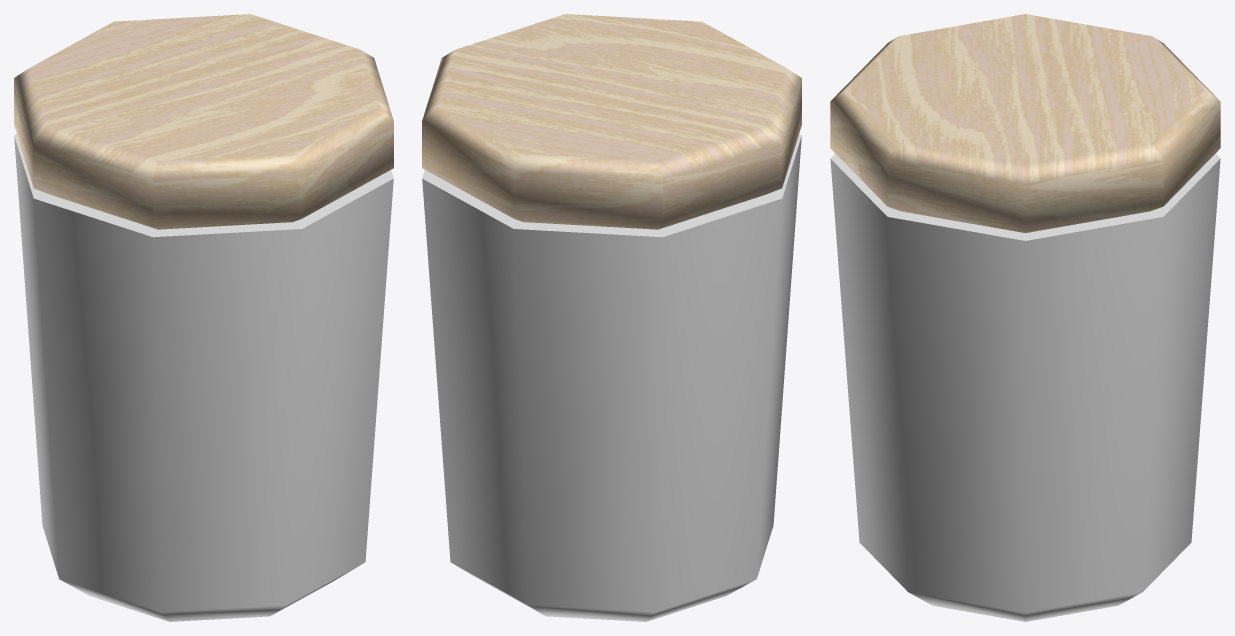
File: prop_034.fbx
3 views of the same model, side by side, from view 1: azimuth 30°, elevation 25°; view 2: azimuth 150°, elevation 25°; view 3: azimuth 270°, elevation 25° (orthographic).
Visible parts, largest first — view 1: prop_034; view 2: prop_034; view 3: prop_034.
Part boxes in pixels (box(x1,y1,x2,y2)): prop_034: box(14, 14, 393, 621); prop_034: box(422, 14, 801, 621); prop_034: box(830, 14, 1220, 621).
Size of the model in its own units: 10.5 by 10.5 by 14.16.
